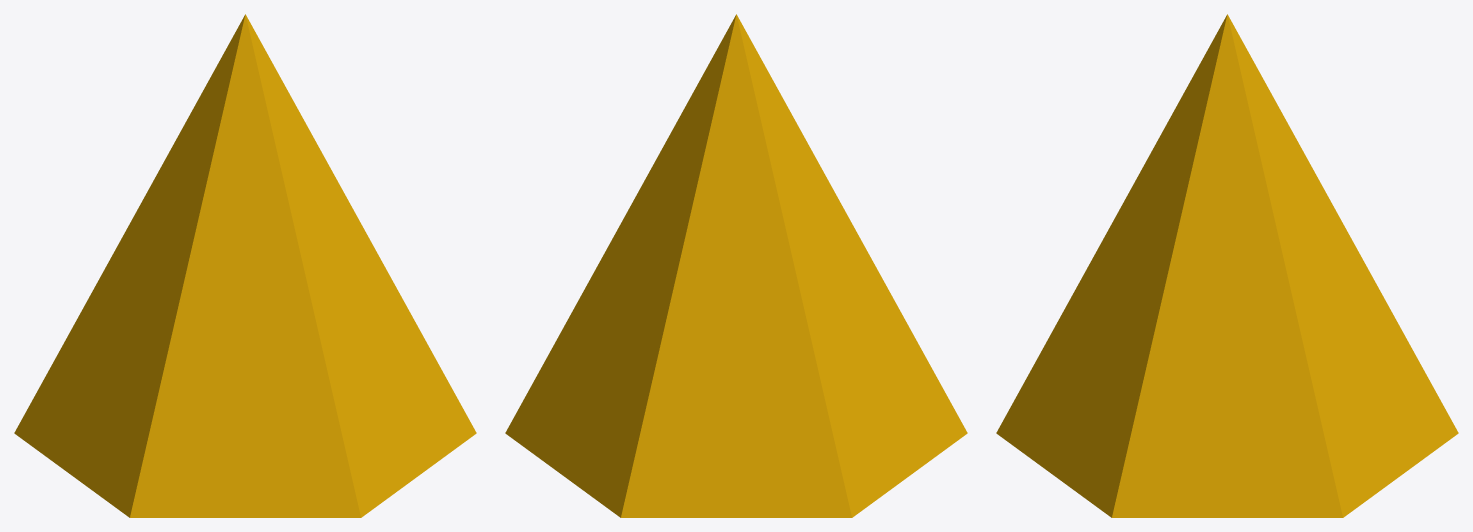
The model's file is Tanishq_3.glb.
3 views of the same model, side by side, from view 1: azimuth 30°, elevation 25°; view 2: azimuth 150°, elevation 25°; view 3: azimuth 270°, elevation 25° (orthographic).
Visible parts, largest first — view 1: Cone; view 2: Cone; view 3: Cone.
Boxes of the visible parts, box(x1,y1,x2,y2) form: Cone: box(14, 14, 476, 517); Cone: box(505, 14, 967, 517); Cone: box(996, 14, 1458, 517).
Size of the model in its own units: 6.47 by 7.47 by 7.47.
